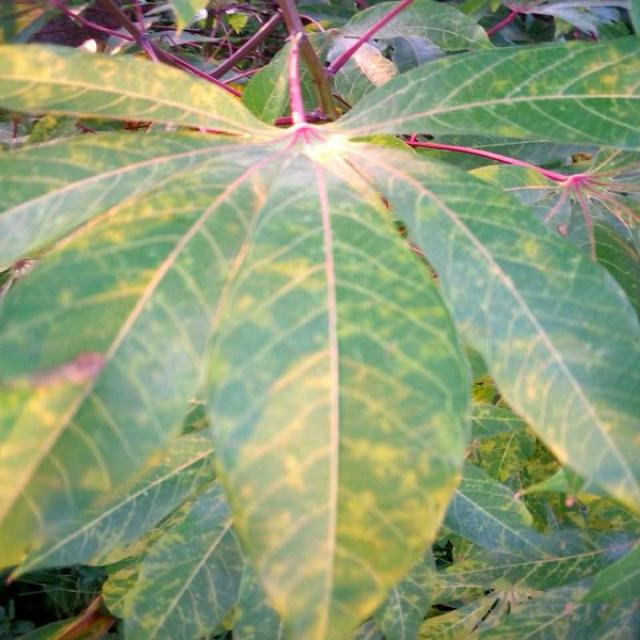cassava leaf: (2, 11, 639, 638)
